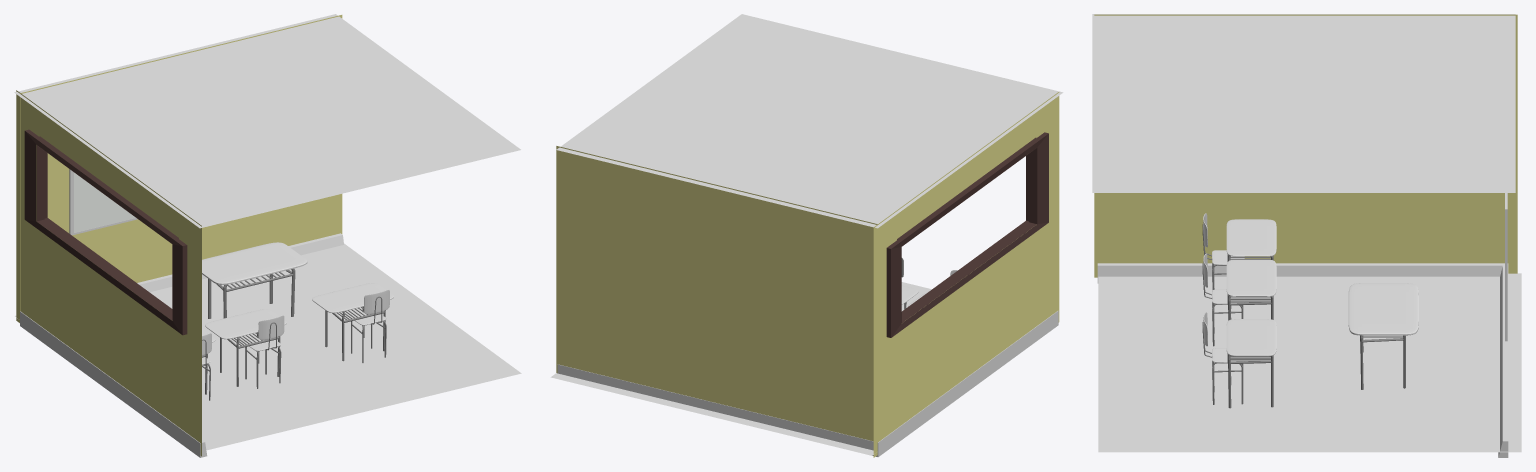
Rendered from sala.fbx.
3 views of the same model, side by side, from view 1: azimuth 30°, elevation 25°; view 2: azimuth 150°, elevation 25°; view 3: azimuth 270°, elevation 25° (orthographic). The views are drawn at different scales.
Parts seen in each view (by area): view 1: Plane.003, Plane, Plane.002, Plane.001, Plane.013, Cube, Plane.008, Plane.005, Plane.007, Plane.016, Cylinder.002, Cylinder.006 (+3 smaller); view 2: Plane.001, Plane.003, Plane.002, Plane.013, Cube, Plane; view 3: Plane.003, Plane, Plane.002, Cube, Plane.008, Plane.016, Plane.007, Plane.006, Cylinder.006, Cylinder.002, Cylinder.001, Plane.004.
Part boxes in pixels (left/top/right/bottom): Plane.003: left=14, top=14, right=520, bottom=228; Plane: left=15, top=243, right=521, bottom=450; Plane.002: left=16, top=90, right=201, bottom=456; Plane.001: left=20, top=15, right=342, bottom=310; Plane.013: left=24, top=129, right=187, bottom=335; Cube: left=20, top=233, right=343, bottom=457; Plane.008: left=202, top=242, right=307, bottom=284; Plane.005: left=74, top=172, right=135, bottom=232; Plane.007: left=205, top=309, right=286, bottom=339; Plane.016: left=312, top=283, right=393, bottom=312; Cylinder.002: left=208, top=268, right=295, bottom=318; Cylinder.006: left=325, top=306, right=385, bottom=361; Plane.001: left=556, top=146, right=877, bottom=441; Plane.003: left=556, top=14, right=1063, bottom=228; Plane.002: left=873, top=92, right=1059, bottom=457; Plane.013: left=886, top=132, right=1048, bottom=337; Cube: left=557, top=310, right=1058, bottom=456; Plane: left=550, top=282, right=931, bottom=455; Plane.003: left=1092, top=14, right=1515, bottom=192; Plane: left=1098, top=273, right=1521, bottom=452; Plane.002: left=1094, top=14, right=1517, bottom=277; Cube: left=1097, top=263, right=1508, bottom=457; Plane.008: left=1348, top=283, right=1418, bottom=335; Plane.016: left=1226, top=319, right=1276, bottom=356; Plane.007: left=1226, top=259, right=1276, bottom=296; Plane.006: left=1226, top=219, right=1276, bottom=256; Cylinder.006: left=1227, top=354, right=1273, bottom=408; Cylinder.002: left=1360, top=335, right=1405, bottom=389; Cylinder.001: left=1227, top=294, right=1273, bottom=320; Plane.004: left=1505, top=193, right=1507, bottom=341.
Size of the model in its own units: 1360 by 929 by 1362.
